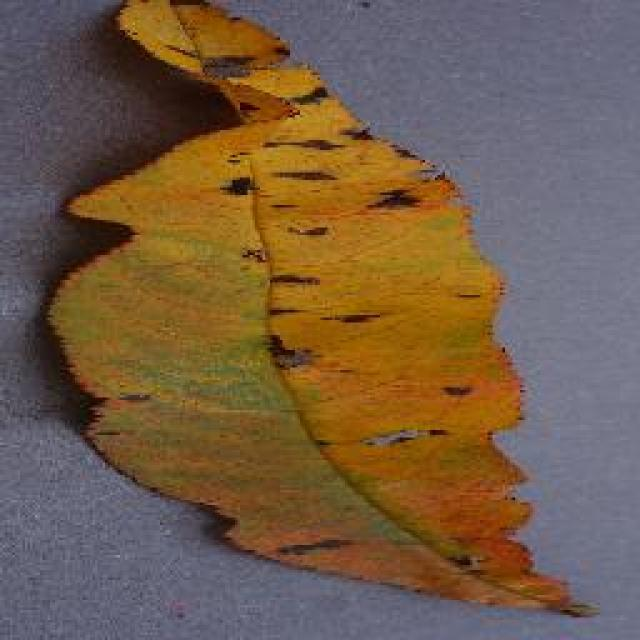Bacterial_spot: (46, 0, 588, 622)
